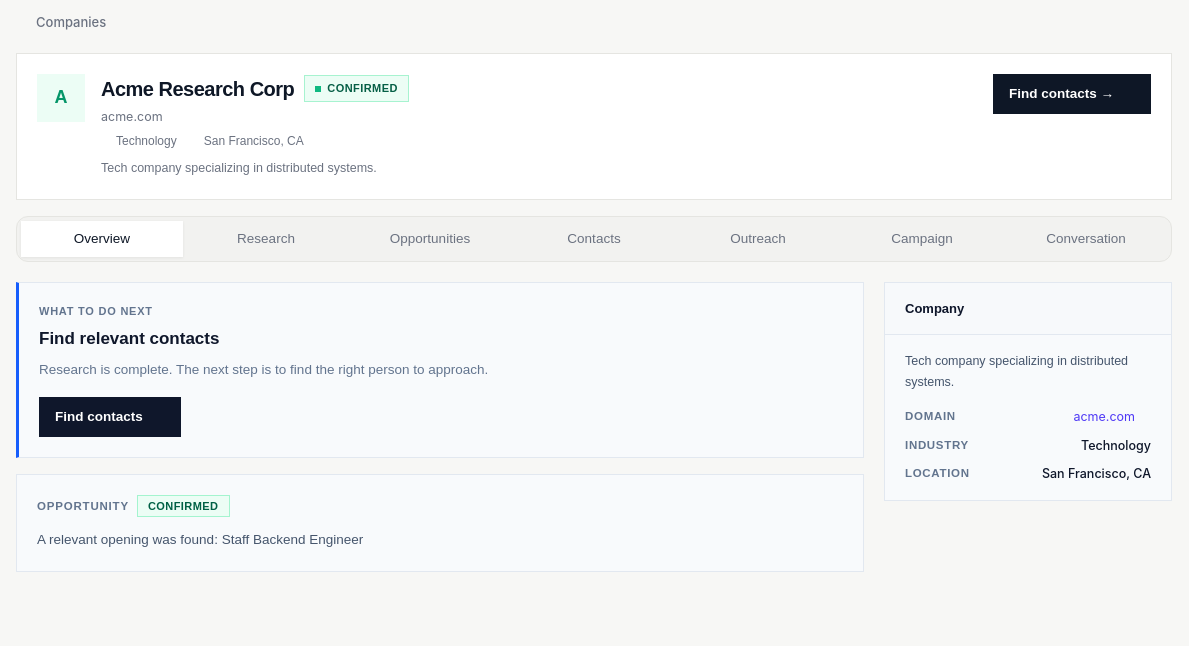
Test case: CompanyDetailRoute Component - UX-006 Research Workspace Redesign › renders COMPLETED research state with executive summary and key findings
Expected: the heading "Acme Research Corp" is shown, [101,74,294,104]
Expected: the heading "Find relevant contacts" is shown, [39,329,219,348]
Click the button "Research" at (266, 239), box [185,221,347,257]
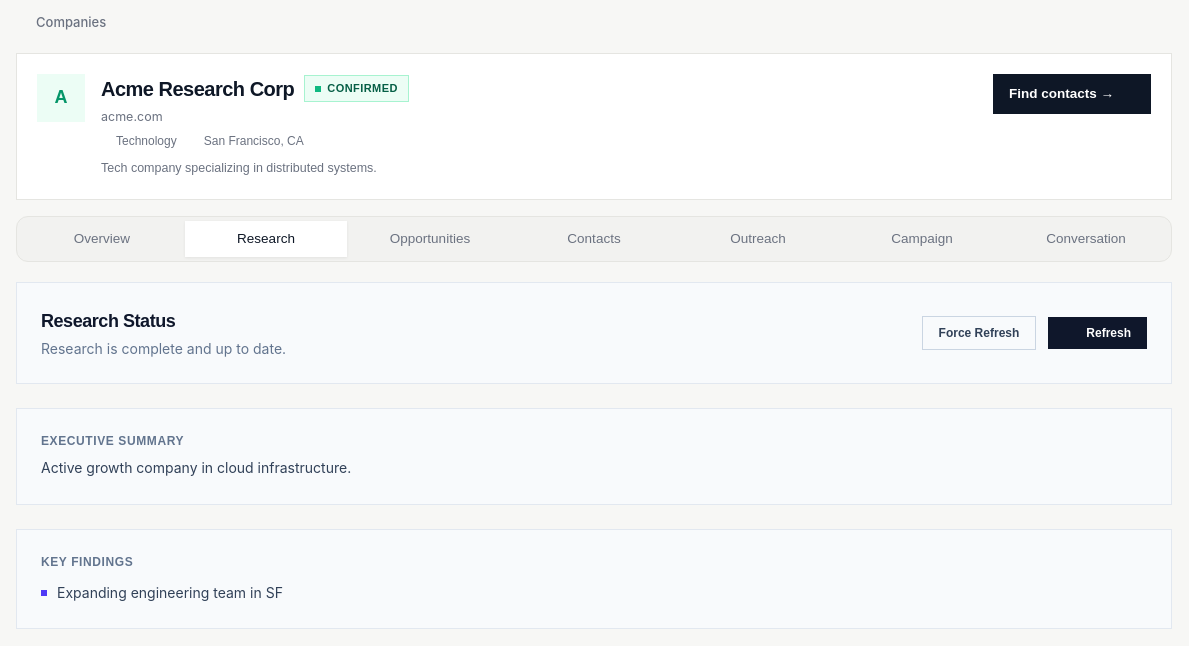
Result: the text "Active growth company in cloud infrastructure." is shown at [41,459,351,476]
Result: the text "Expanding engineering team in SF" is shown at [57,582,283,604]
Opportunities are now in their own tab
Click the button "Opportunities" at (430, 239), box [349,221,511,257]
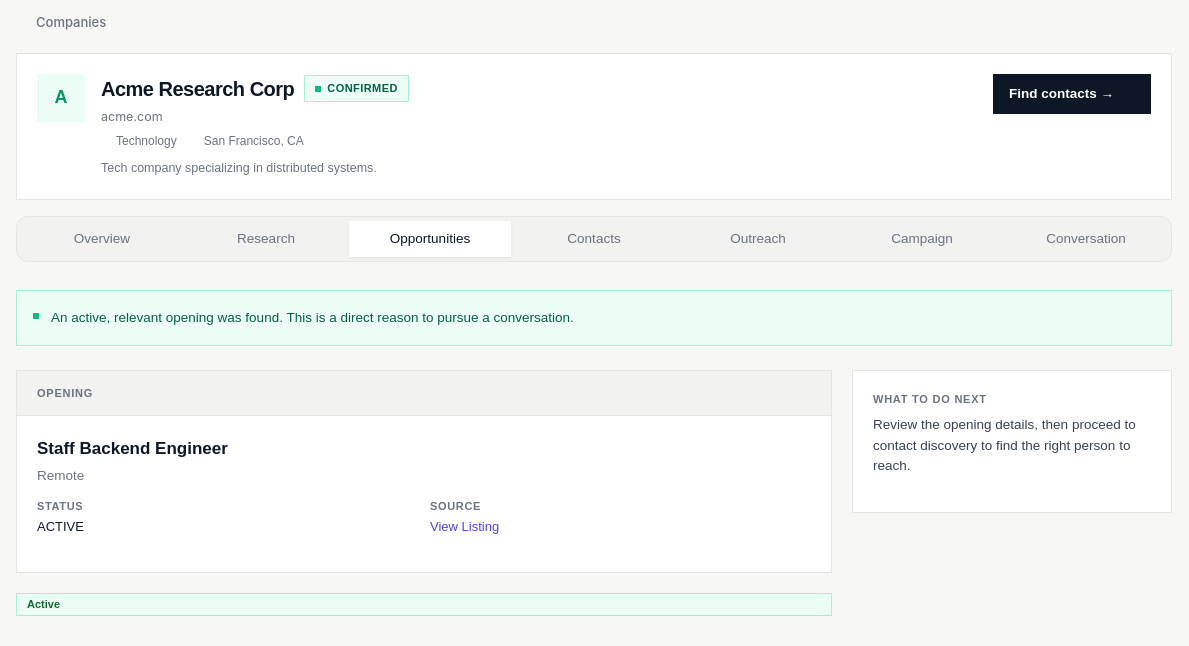
Result: the text "Staff Backend Engineer" is shown at [37,439,228,458]
